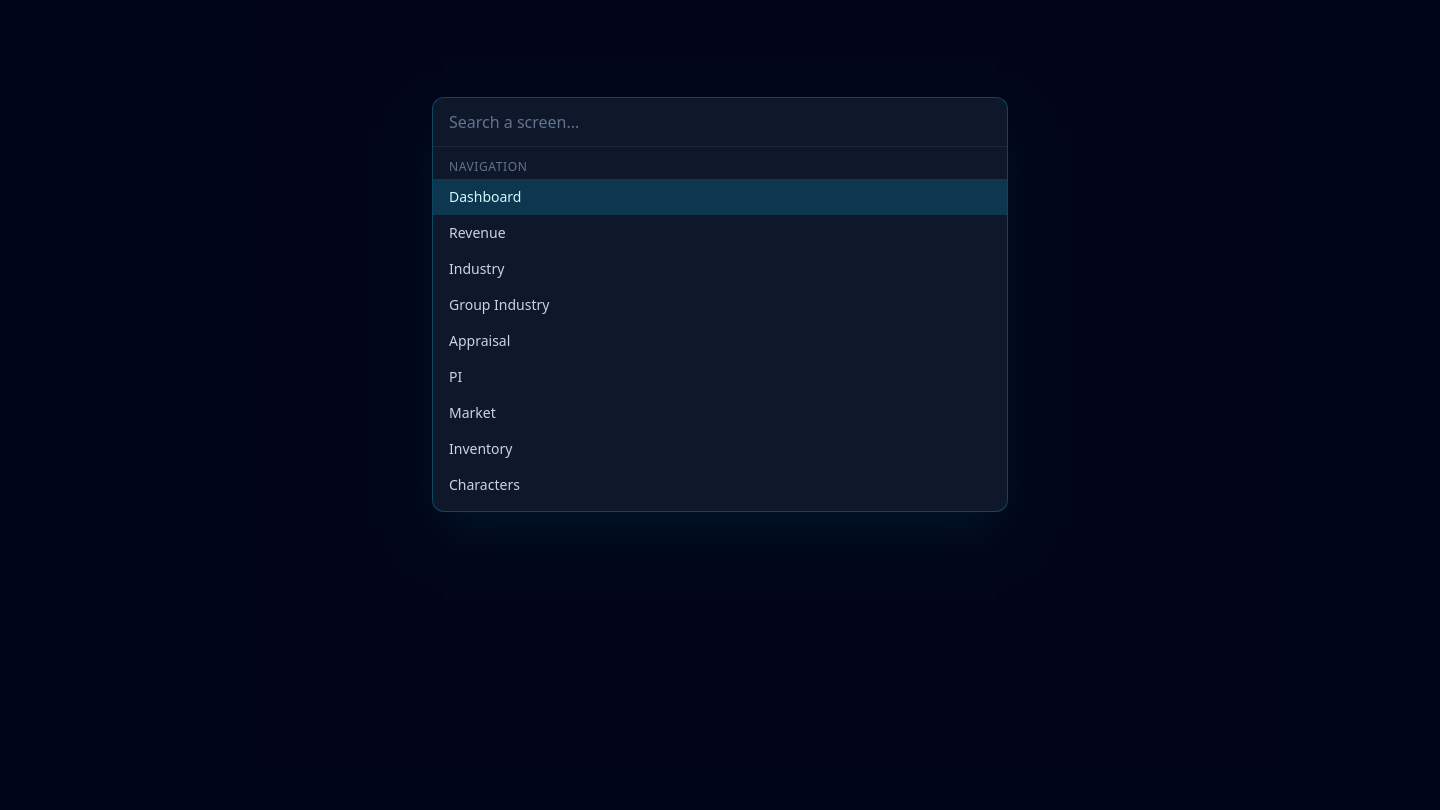
Test: CommandPalette types › unknown types › shows a searching state while the search is pending
This screenshot has width=1440, height=810.
Type "rav" into the dropdown with placeholder "Search a screen..." at (720, 123), box [433, 98, 1007, 147]
Wait 250 ms
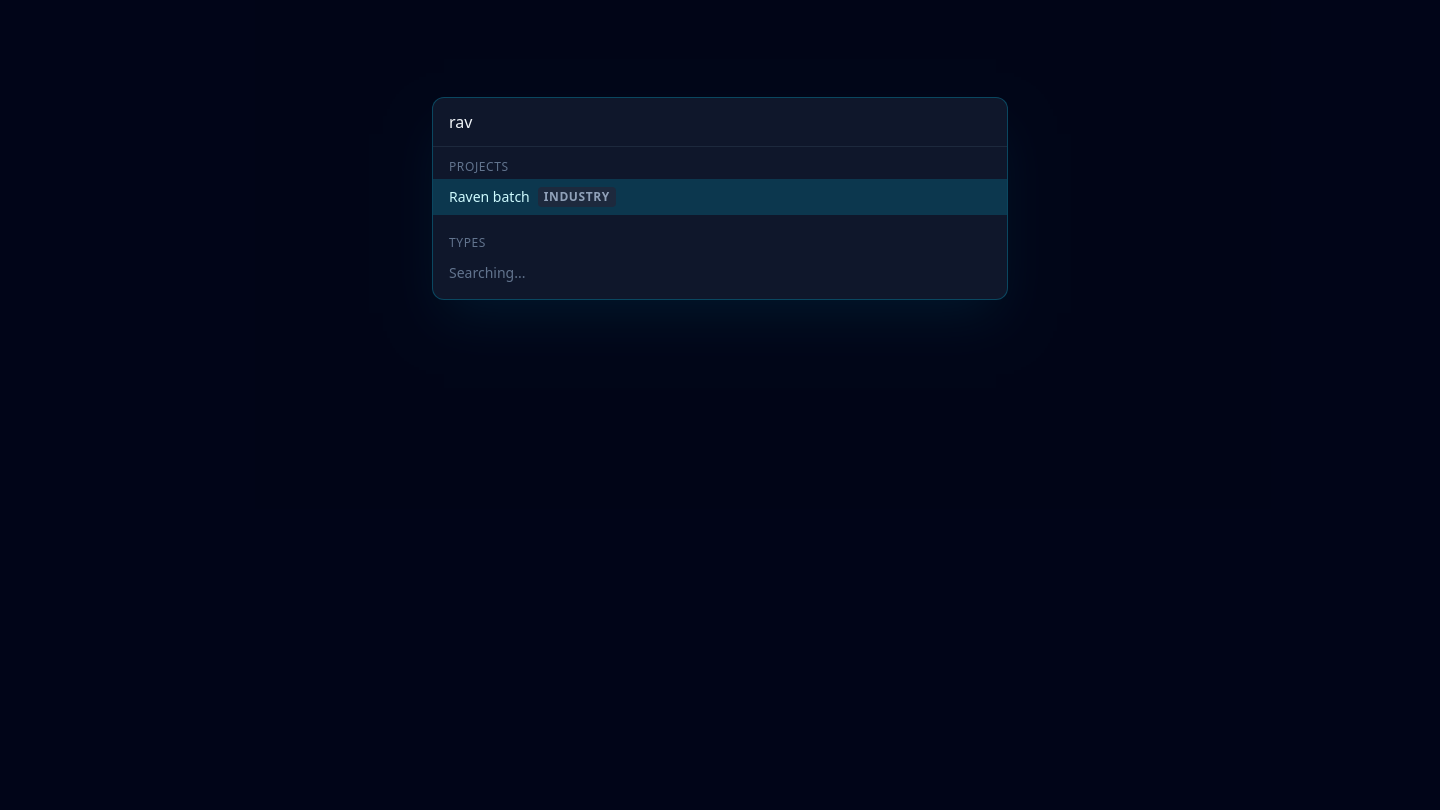
Result: the element showing "Types Searching..." is shown at [449, 234, 526, 282]
